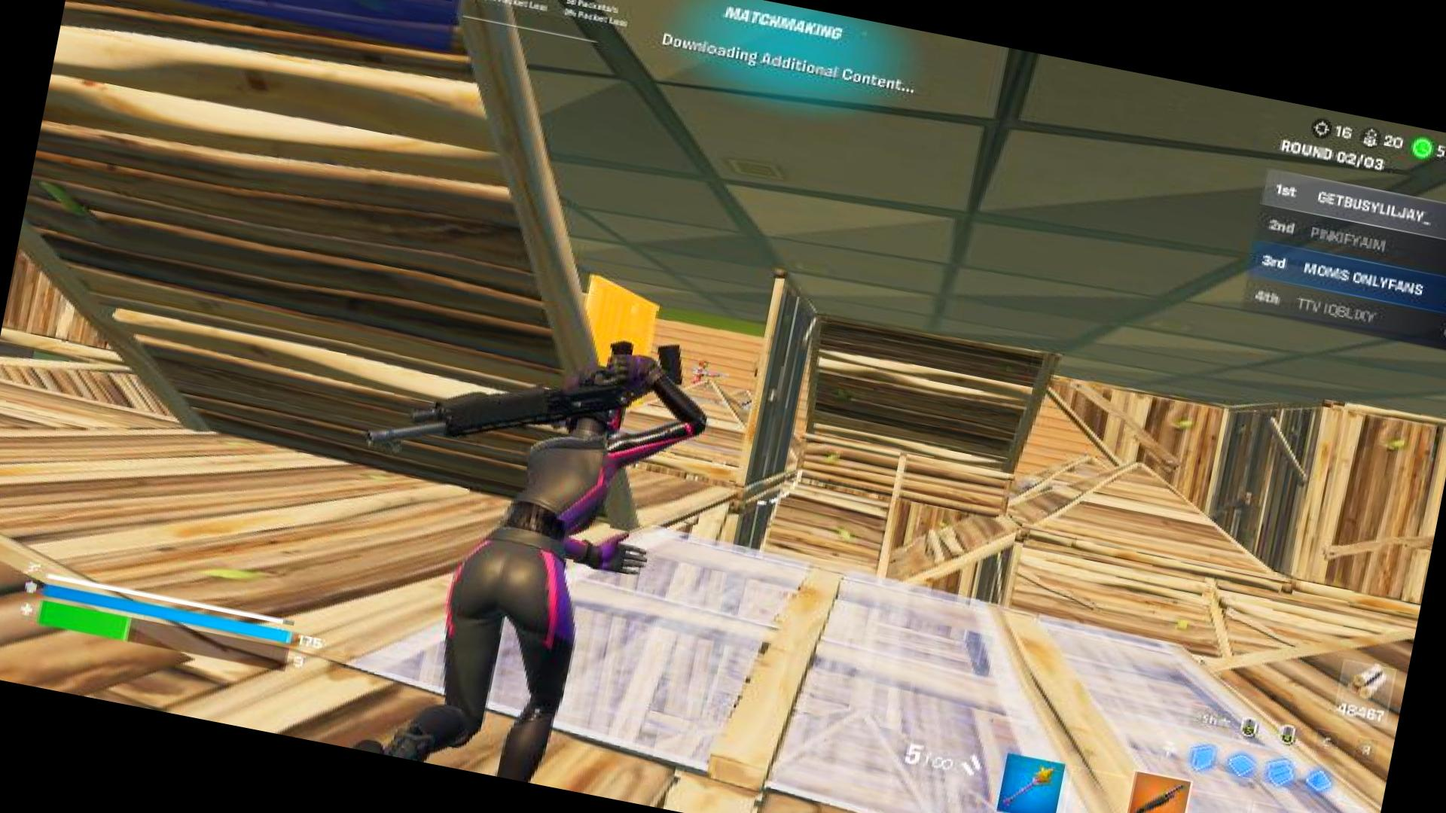player: (685, 352, 714, 381)
